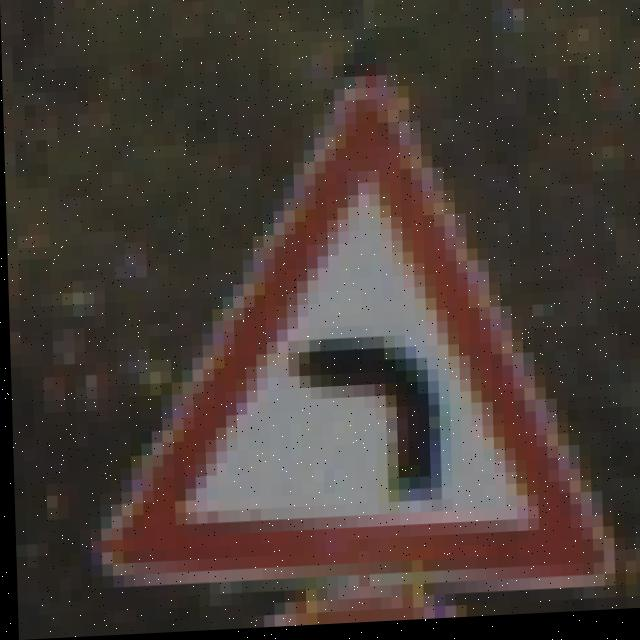left_turn: (60, 43, 633, 606)
